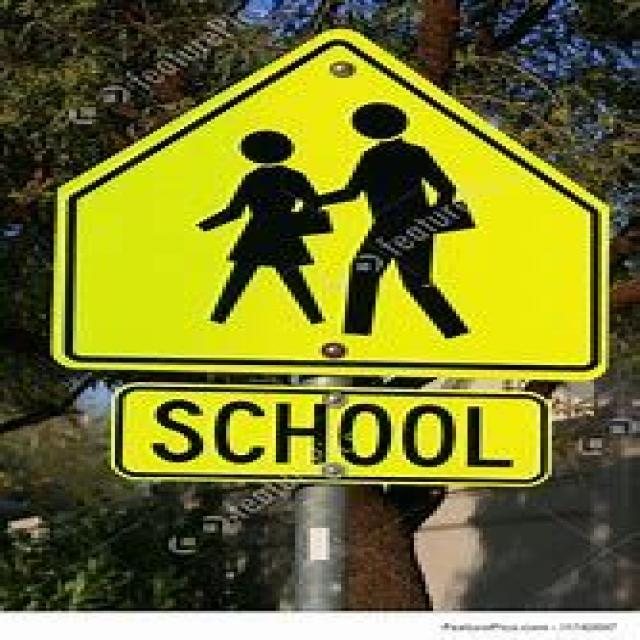SCHOOL_AHEAD: (50, 25, 609, 378)
